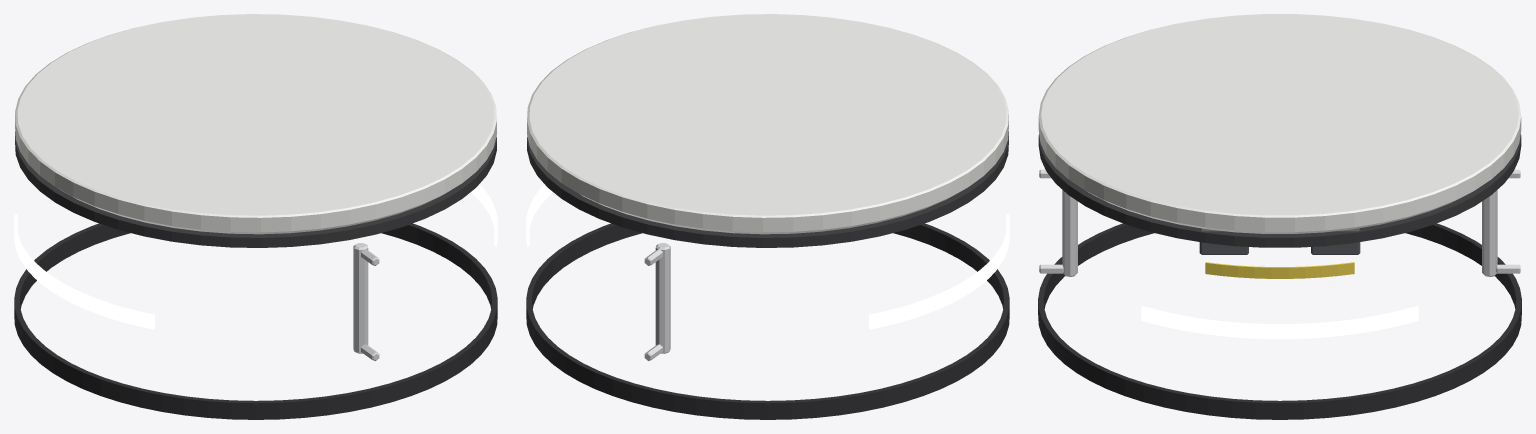
File: ax_util_01_idss_port_interior.glb
3 views of the same model, side by side, from view 1: azimuth 30°, elevation 25°; view 2: azimuth 150°, elevation 25°; view 3: azimuth 270°, elevation 25° (orthographic).
Visible parts, largest first — view 1: hatch_door_1, port_trim_ring_open, hatch_seal_1, led_arc_2, tunnel_handhold_1_a, led_arc_1; view 2: hatch_door_1, port_trim_ring_open, hatch_seal_1, led_arc_2, tunnel_handhold_1_b, led_arc_1; view 3: hatch_door_1, port_trim_ring_open, hatch_seal_1, led_arc_1, hatch_caution_arc, tunnel_handhold_1_a, tunnel_handhold_1_b, hatch_hinge_1.
Part boxes in pixels (<box>): hatch_door_1: <box>15,14,496,234</box>; port_trim_ring_open: <box>14,223,497,419</box>; hatch_seal_1: <box>15,131,496,247</box>; led_arc_2: <box>14,214,154,329</box>; tunnel_handhold_1_a: <box>353,243,379,360</box>; led_arc_1: <box>470,184,497,245</box>; hatch_door_1: <box>527,14,1008,234</box>; port_trim_ring_open: <box>526,223,1009,419</box>; hatch_seal_1: <box>527,131,1008,247</box>; led_arc_2: <box>869,214,1009,329</box>; tunnel_handhold_1_b: <box>644,243,670,360</box>; led_arc_1: <box>526,184,553,245</box>; hatch_door_1: <box>1038,14,1521,233</box>; port_trim_ring_open: <box>1038,223,1521,419</box>; hatch_seal_1: <box>1038,134,1521,247</box>; led_arc_1: <box>1141,306,1418,338</box>; hatch_caution_arc: <box>1205,262,1354,278</box>; tunnel_handhold_1_a: <box>1039,169,1077,276</box>; tunnel_handhold_1_b: <box>1482,169,1520,276</box>; hatch_hinge_1: <box>1199,228,1360,254</box>.
Bounding box in the file's own units: 0.7837 × 0.363 × 0.7838.
